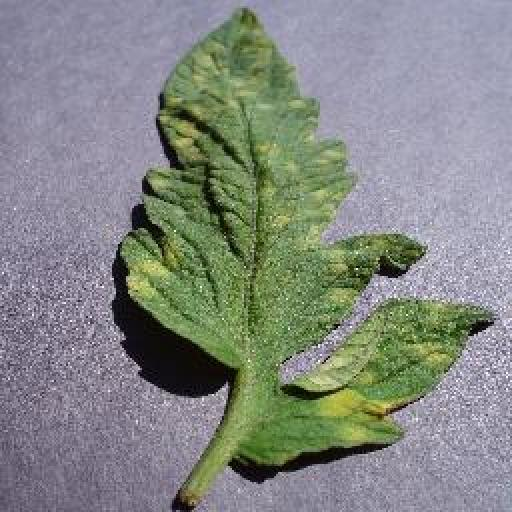Leaf Mold: (123, 3, 495, 468)
